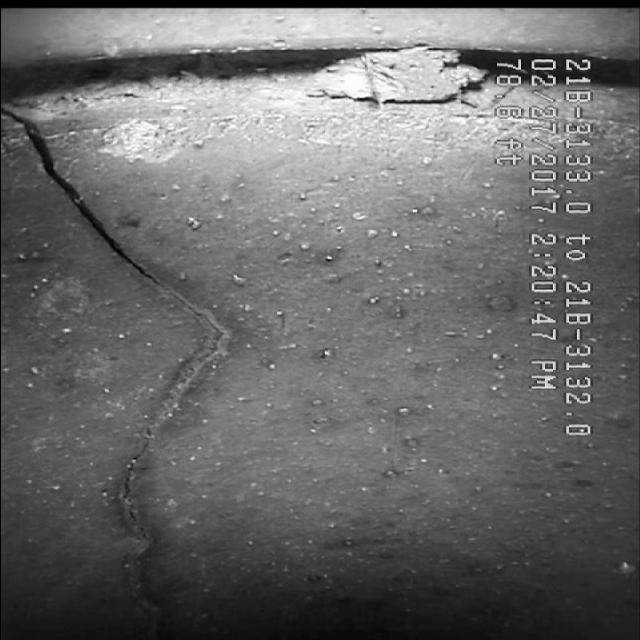Crack: (41, 168, 287, 572)
